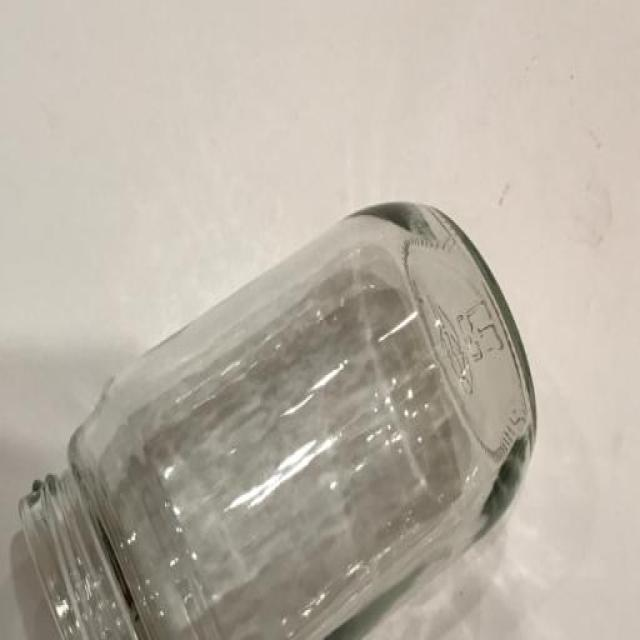glass: (16, 202, 538, 640)
